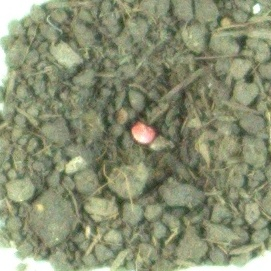pepper seed: (50, 46, 208, 192)
